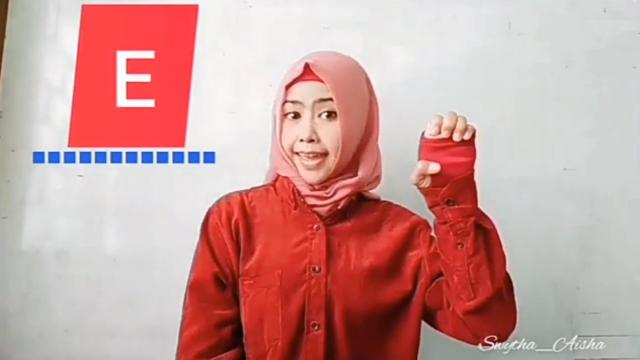E: (408, 108, 479, 204)
